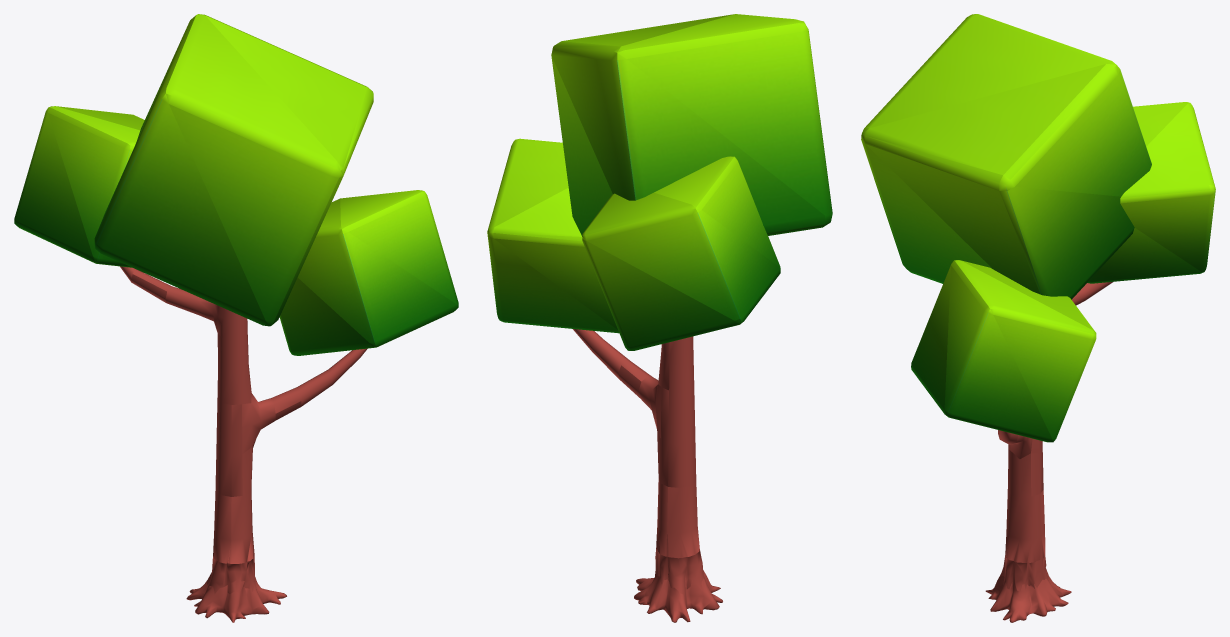
The model's file is Tree.fbx.
3 renders of one model, left to right at view 1: azimuth 30°, elevation 25°; view 2: azimuth 150°, elevation 25°; view 3: azimuth 270°, elevation 25°, orthographic. The views are drawn at different scales.
Parts seen in each view (by area): view 1: Tree.008, Tree.009, Tree.007, Tree.001, Tree.027, Tree.026, Tree.016, Tree.012, Tree.029, Tree.030, Tree.046, Tree (+14 smaller); view 2: Tree.011, Tree.006, Tree.014, Tree.015, Tree.005, Tree.036, Tree.033, Tree.032, Tree.004, Tree.012, Tree.046, Tree.016 (+12 smaller); view 3: Tree.005, Tree.007, Tree.001, Tree.004, Tree.002, Tree.035, Tree.037, Tree.003, Tree.025, Tree.023, Tree.047, Tree.026 (+9 smaller).
Boxes of the visible parts, box(x1,y1,x2,y2) form: Tree.008: box(166, 93, 343, 325); Tree.009: box(95, 94, 269, 326); Tree.007: box(166, 14, 336, 167); Tree.001: box(205, 15, 367, 170); Tree.027: box(342, 229, 458, 345); Tree.026: box(342, 191, 458, 306); Tree.016: box(48, 107, 130, 261); Tree.012: box(14, 108, 96, 261); Tree.029: box(297, 229, 375, 345); Tree.030: box(279, 277, 375, 355); Tree.046: box(215, 400, 242, 496); Tree: box(186, 578, 286, 622); Tree.011: box(617, 23, 831, 223); Tree.006: box(617, 53, 824, 233); Tree.014: box(582, 208, 739, 320); Tree.015: box(582, 237, 741, 350); Tree.005: box(551, 41, 635, 200); Tree.036: box(488, 232, 618, 333); Tree.033: box(493, 233, 617, 329); Tree.032: box(489, 138, 568, 232); Tree.004: box(551, 56, 612, 236); Tree.012: box(695, 208, 780, 322); Tree.046: box(657, 386, 696, 487); Tree.016: box(696, 157, 780, 267); Tree.005: box(999, 64, 1151, 196); Tree.007: box(864, 14, 1116, 128); Tree.001: box(862, 64, 1105, 174); Tree.004: box(999, 186, 1134, 299); Tree.002: box(861, 134, 1039, 294); Tree.035: box(947, 309, 1053, 442); Tree.037: box(990, 309, 1096, 441); Tree.003: box(861, 140, 992, 283); Tree.025: box(1097, 189, 1214, 283); Tree.023: box(1120, 103, 1213, 198); Tree.047: box(1005, 449, 1045, 562); Tree.026: box(944, 260, 989, 415).
Size of the model in its own units: 2.68 by 4.34 by 2.55.
